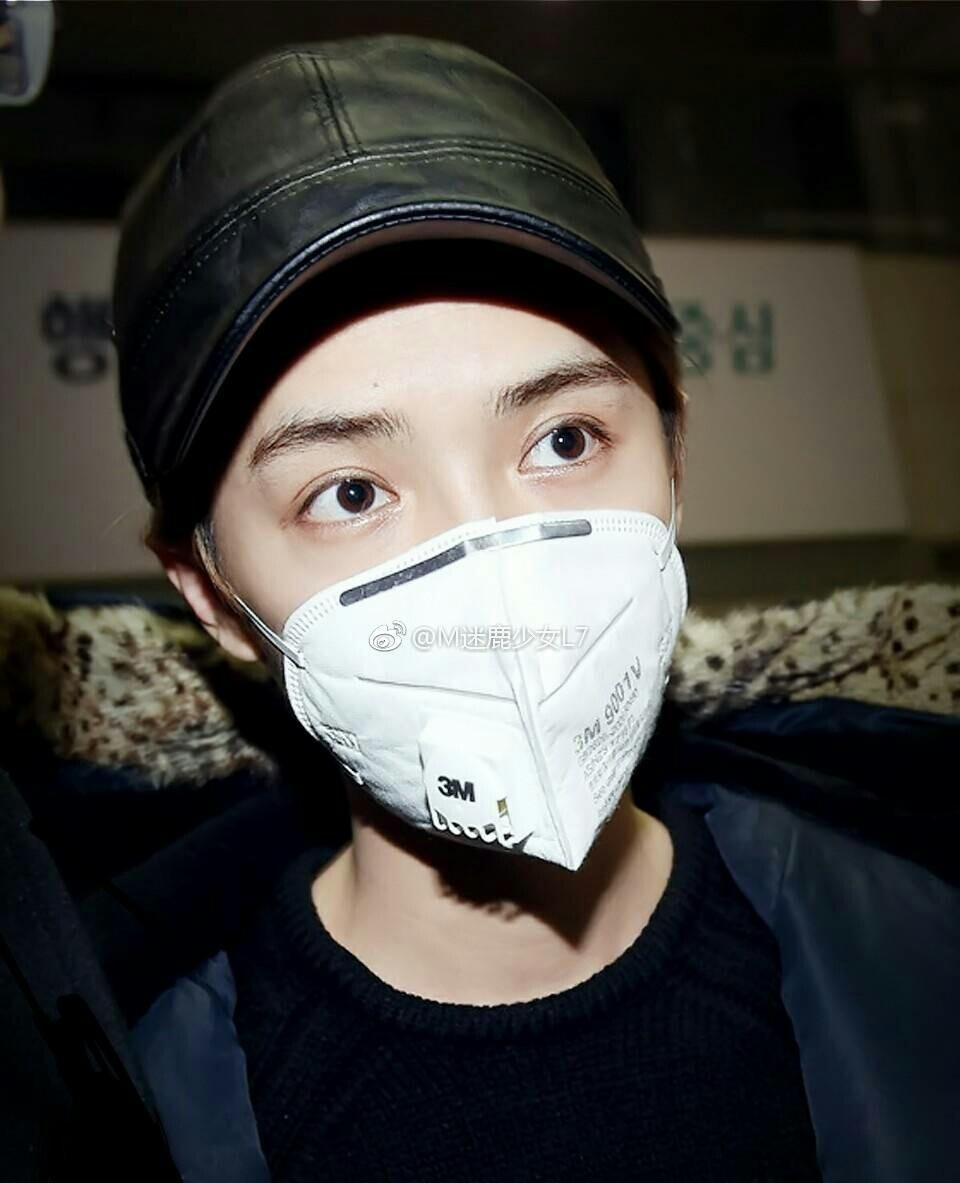OK: (221, 333, 721, 833)
